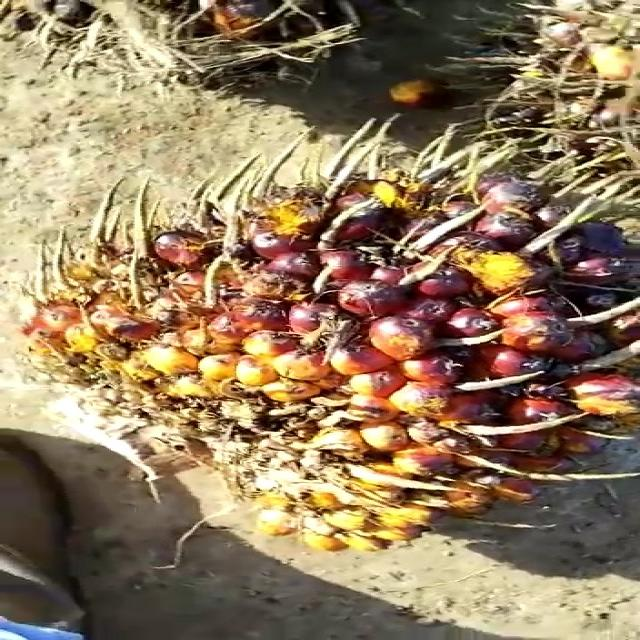palm oil: (12, 163, 640, 531)
